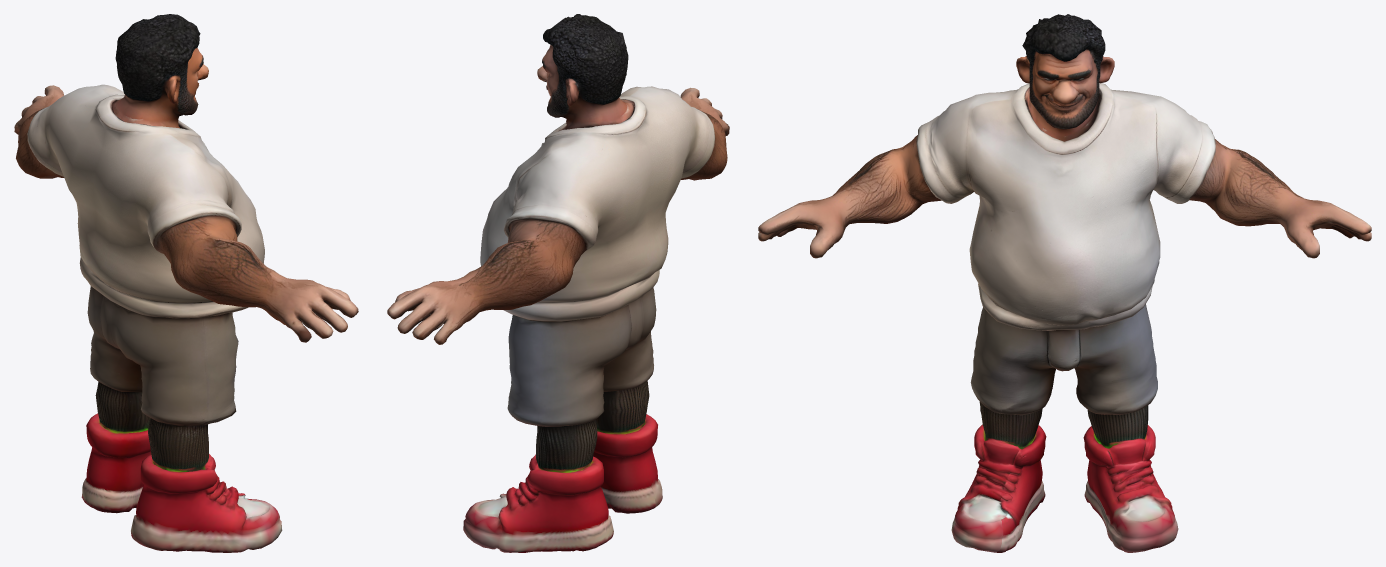
3 views of the same model, side by side, from view 1: azimuth 30°, elevation 25°; view 2: azimuth 150°, elevation 25°; view 3: azimuth 270°, elevation 25° (orthographic).
Visible parts, largest first — view 1: tripo_node_338d4948; view 2: tripo_node_338d4948; view 3: tripo_node_338d4948.
Boxes of the visible parts, x1,y1,x2,y2 form: tripo_node_338d4948: [14, 14, 358, 552]; tripo_node_338d4948: [387, 14, 729, 552]; tripo_node_338d4948: [758, 14, 1371, 552].
Bounding box in the file's own units: 0.3151 × 0.9061 × 1.
1 material, 1 textured.
